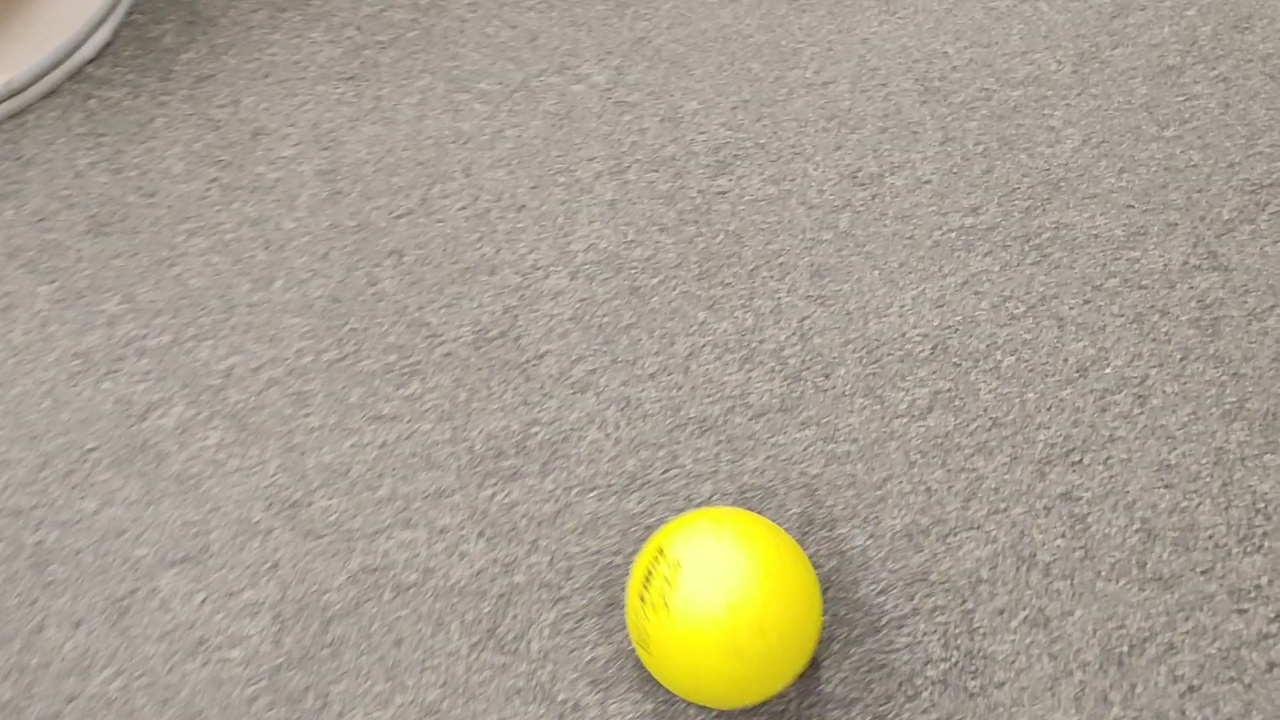Ball: (623, 504, 827, 711)
